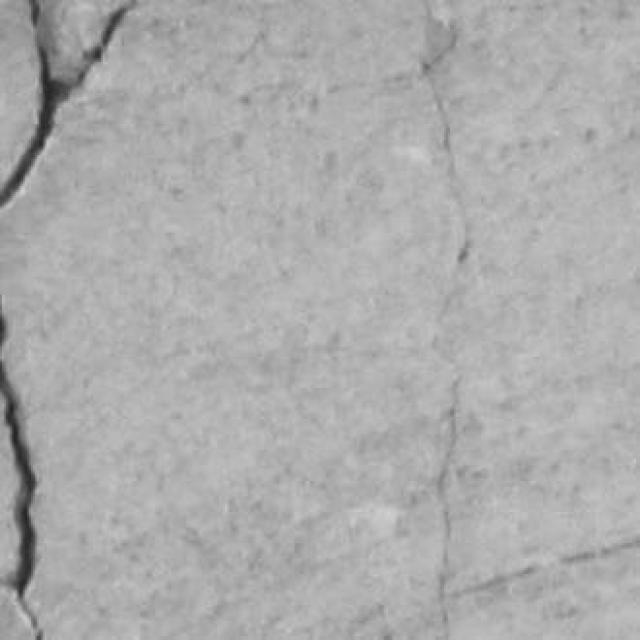crack: (0, 0, 135, 209), (0, 297, 44, 639), (0, 299, 42, 639), (421, 0, 471, 265), (448, 536, 639, 599), (437, 379, 459, 639)
